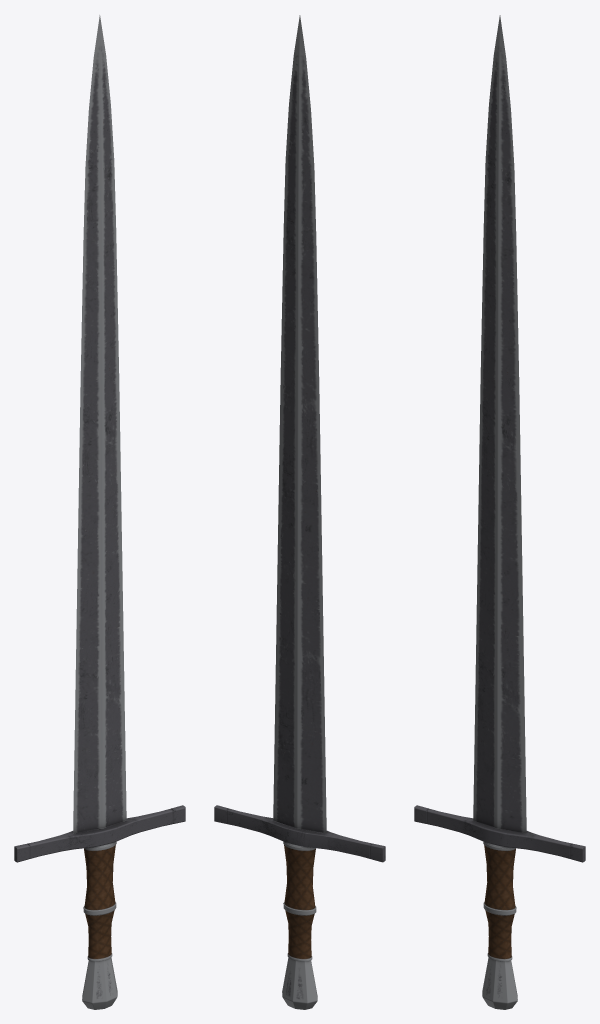
File: Sword 1.fbx
The picture shows the model from 3 angles, left to right: view 1: azimuth 30°, elevation 25°; view 2: azimuth 150°, elevation 25°; view 3: azimuth 330°, elevation 25°; orthographic projection.
Visible parts, largest first — view 1: Sword_1; view 2: Sword_1; view 3: Sword_1.
Part boxes in pixels (left/top/right/bottom): Sword_1: left=14, top=15, right=185, bottom=1009; Sword_1: left=214, top=15, right=385, bottom=1009; Sword_1: left=414, top=15, right=585, bottom=1009.
Size of the model in its own units: 19.37 by 109 by 2.77.
1 material, 1 textured.
